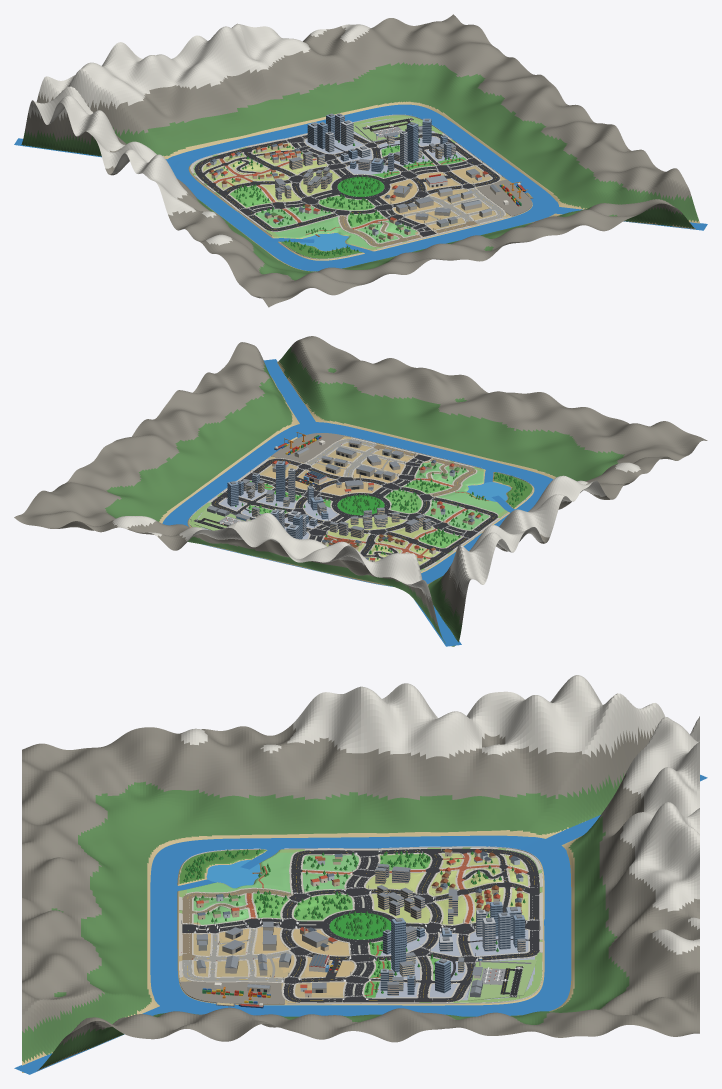
File: SuperAssemblyCar_City.fbx
3 views of the same model, one above another, from view 1: azimuth 30°, elevation 25°; view 2: azimuth 150°, elevation 25°; view 3: azimuth 270°, elevation 25° (orthographic). The views are drawn at different scales.
Visible parts, largest first — view 1: Terrain_Mountains, Water_River_Main, Terrain_RiverBed, Bldg_Commercial_Windows, Bldg_Commercial_tw1, Terrain_City_C01, Port_Yard, Terrain_City_C00, Terrain_City_C02, Terrain_City_C10, Bldg_Commercial_tw3, Terrain_City_C11 (+12 smaller); view 2: Terrain_Mountains, Water_River_Main, Terrain_RiverBed, Bldg_Commercial_Windows, Terrain_City_C01, Water_River_Gorge_SE_Outlet, Bldg_Commercial_tw1, Port_Yard, Terrain_City_C00, Terrain_City_C11, Terrain_City_C10, Bldg_Apartment_Windows (+6 smaller); view 3: Terrain_Mountains, Water_River_Main, Terrain_RiverBed, Bldg_Commercial_Windows, Bldg_Commercial_tw1, Terrain_City_C01, Port_Yard, Terrain_City_C11, Terrain_City_C10, Terrain_City_C00, Airport_Ground, Terrain_City_C31 (+22 smaller).
Boxes of the visible parts, x1,y1,x2,y2 form: Terrain_Mountains: [21, 14, 705, 307]; Water_River_Main: [168, 104, 558, 271]; Terrain_RiverBed: [165, 101, 561, 271]; Bldg_Commercial_Windows: [307, 116, 451, 171]; Bldg_Commercial_tw1: [317, 113, 447, 172]; Terrain_City_C01: [255, 207, 334, 238]; Port_Yard: [476, 179, 532, 216]; Terrain_City_C00: [280, 225, 363, 259]; Terrain_City_C02: [215, 174, 298, 208]; Terrain_City_C10: [336, 216, 418, 250]; Bldg_Commercial_tw3: [325, 120, 407, 165]; Terrain_City_C11: [311, 195, 381, 225]; Terrain_Mountains: [14, 336, 707, 646]; Water_River_Main: [162, 422, 553, 586]; Terrain_RiverBed: [159, 420, 556, 586]; Bldg_Commercial_Windows: [227, 462, 328, 539]; Terrain_City_C01: [428, 493, 508, 530]; Water_River_Gorge_SE_Outlet: [263, 359, 319, 429]; Bldg_Commercial_tw1: [227, 461, 328, 539]; Port_Yard: [271, 433, 344, 462]; Terrain_City_C00: [456, 472, 532, 508]; Terrain_City_C11: [385, 484, 455, 515]; Terrain_City_C10: [410, 461, 485, 493]; Bldg_Apartment_Windows: [329, 509, 431, 537]; Terrain_Mountains: [22, 675, 699, 1072]; Water_River_Main: [150, 835, 571, 1016]; Terrain_RiverBed: [147, 830, 574, 1015]; Bldg_Commercial_Windows: [380, 903, 525, 994]; Bldg_Commercial_tw1: [391, 901, 524, 994]; Terrain_City_C01: [268, 849, 358, 887]; Port_Yard: [179, 981, 284, 1004]; Terrain_City_C11: [268, 885, 352, 921]; Terrain_City_C10: [179, 885, 267, 925]; Terrain_City_C00: [179, 849, 267, 887]; Airport_Ground: [467, 959, 536, 1000]; Terrain_City_C31: [268, 965, 354, 1003].
Bounding box in the file's own units: 942 × 173 × 942.
